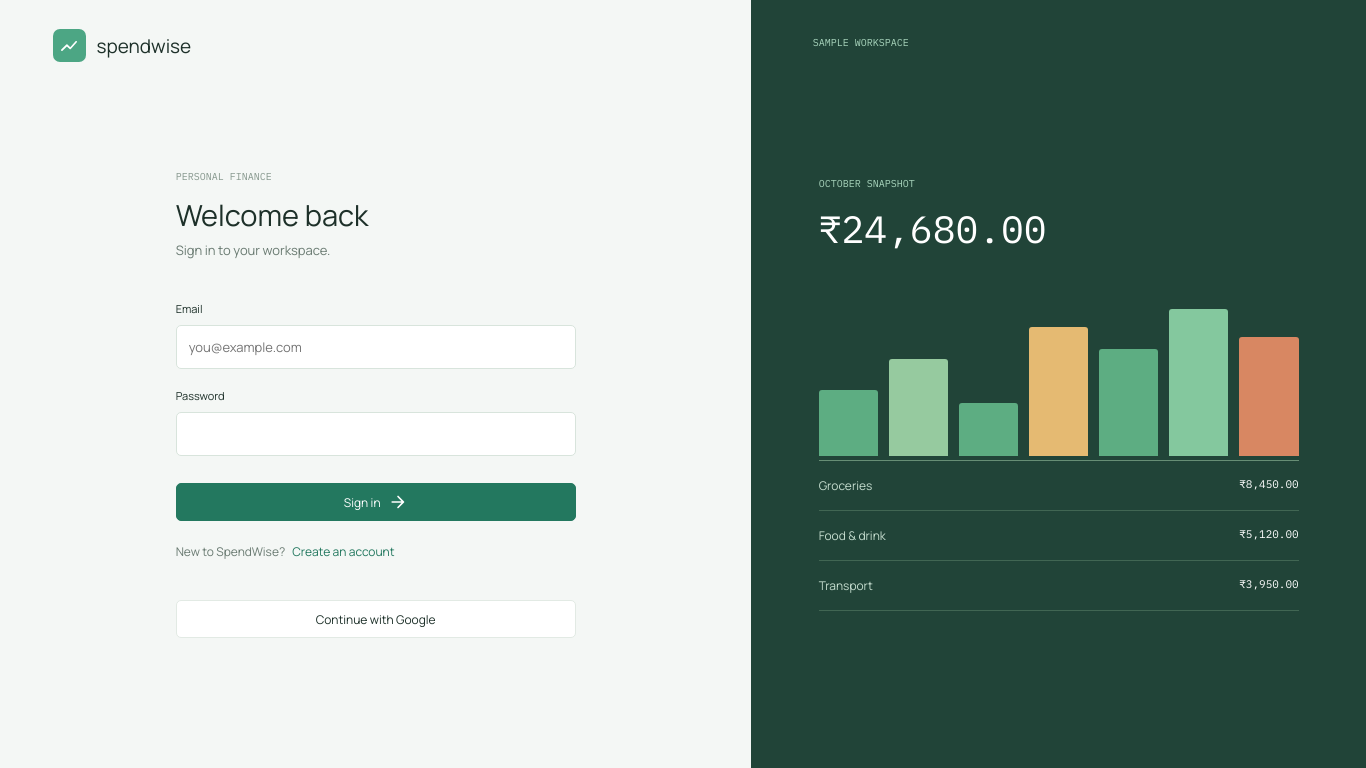
Test: authentication › explains when email verification will set the submitted password
Type "legacy@example.com" into the field labelled "Email".
click(376, 347); type("legacy@example.com")  # box [176, 325, 576, 369]
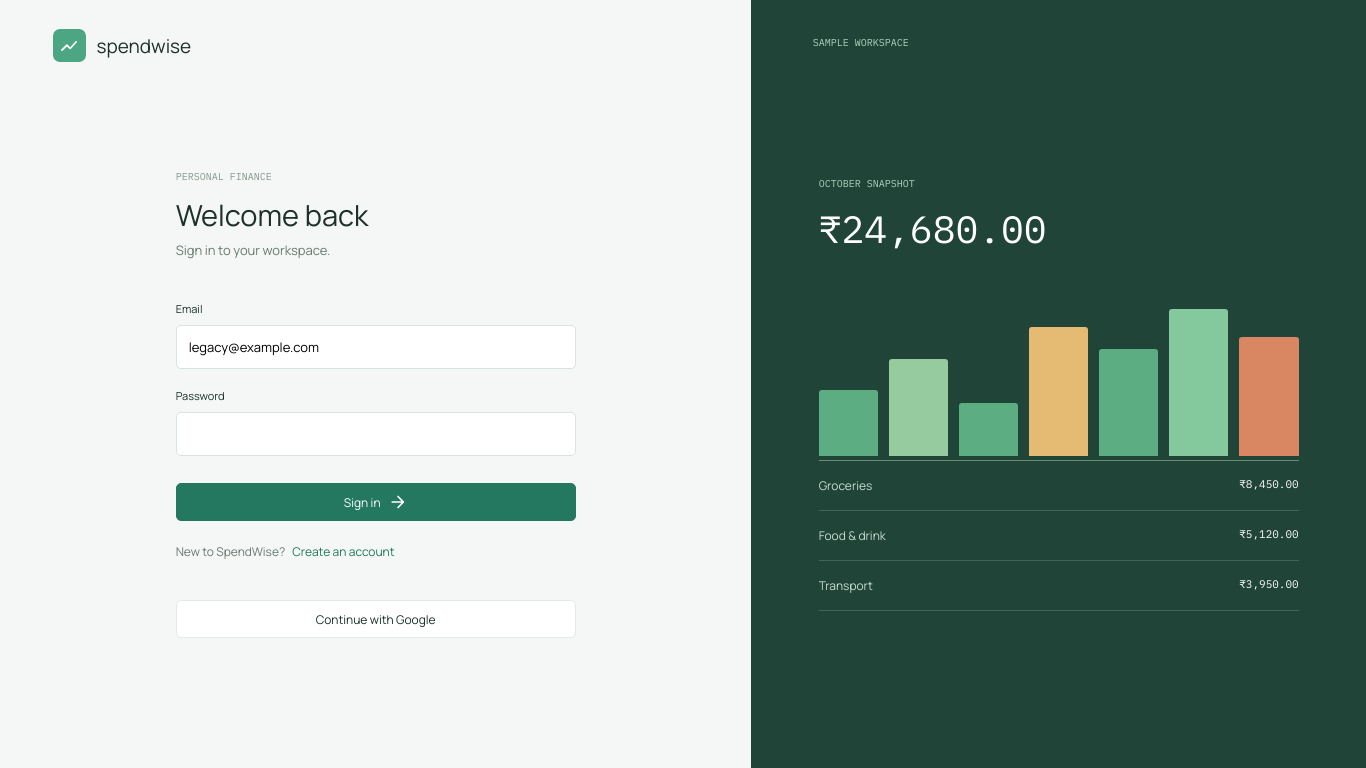
Type "new-long-password" into the password field labelled "Password".
click(376, 434); type("new-long-password")  # box [176, 412, 576, 456]
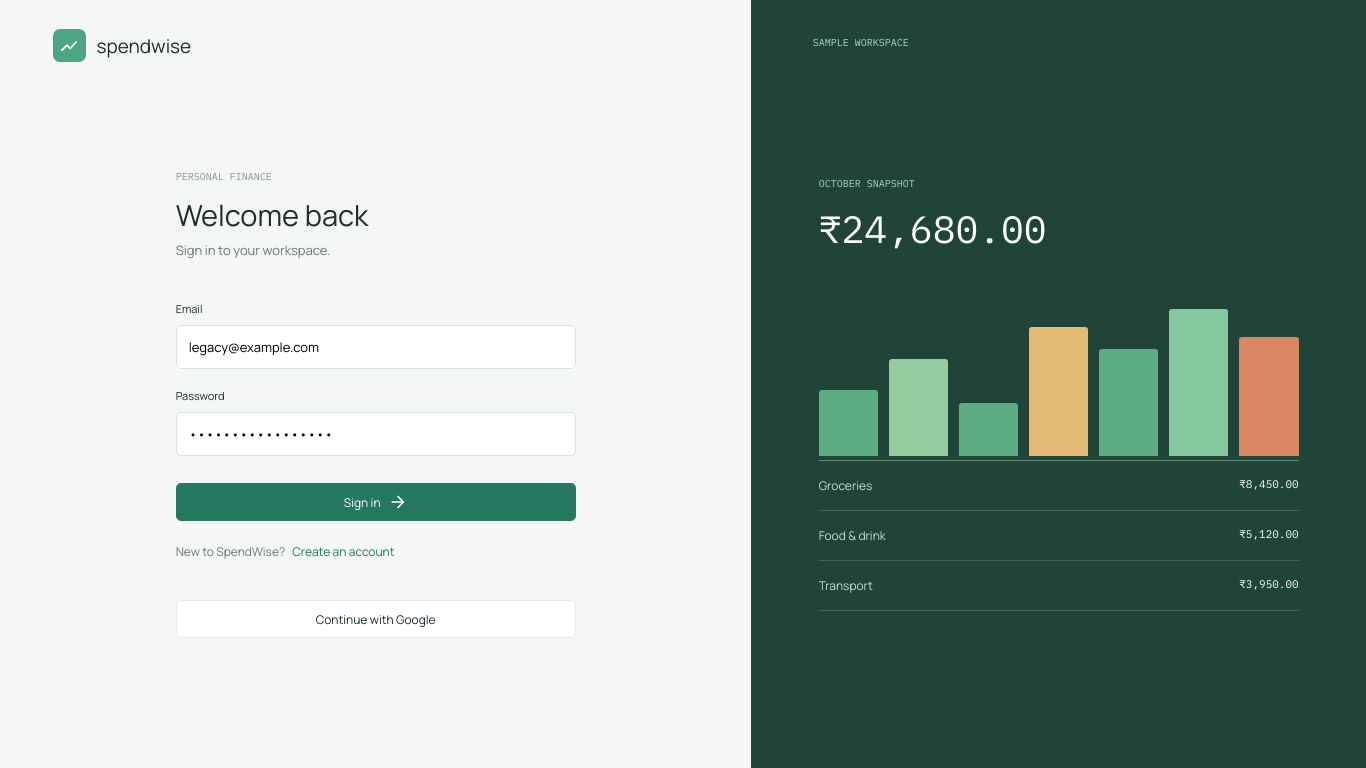
Click the button "Sign in".
click(376, 502)  # box [176, 483, 576, 521]
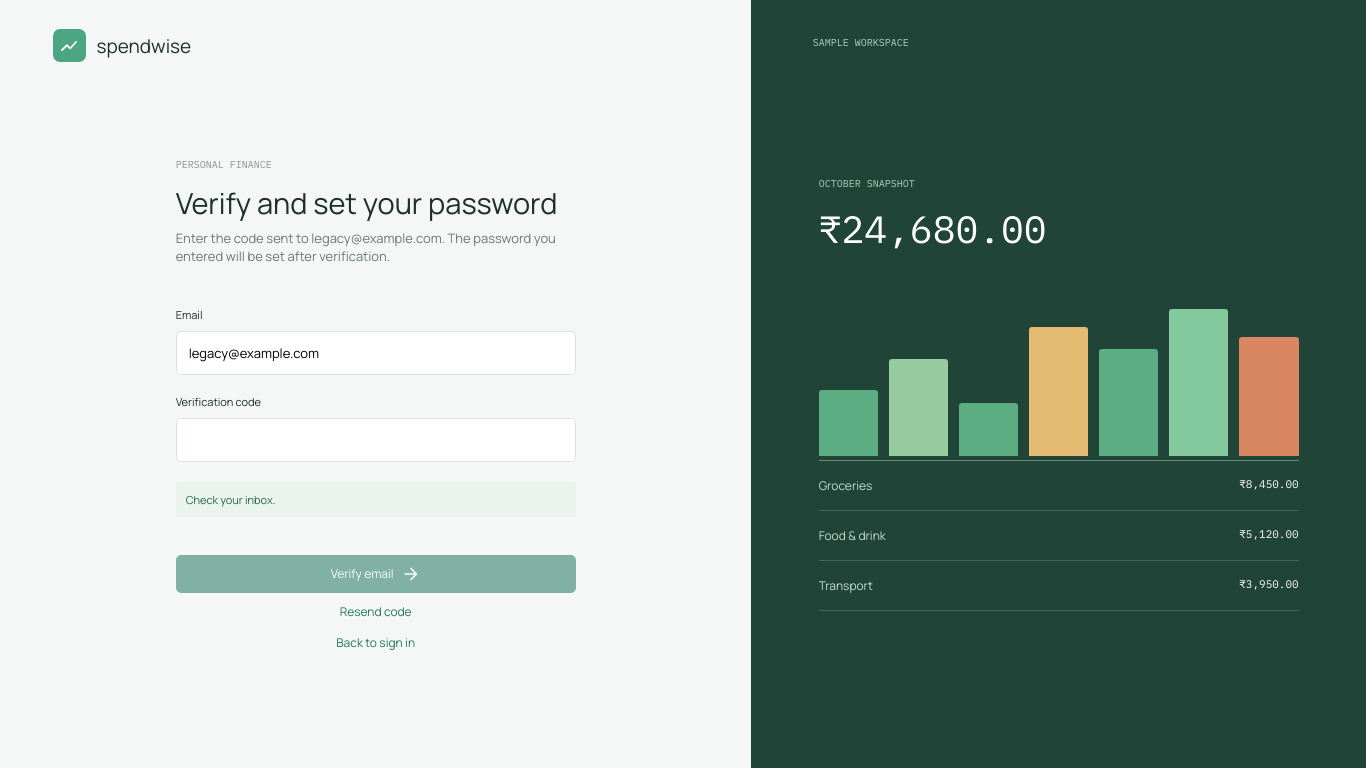
Now the heading "Verify and set your password" is shown, box [176, 182, 576, 222]
Now the text "The password you entered will be set after verification." is shown, box [176, 228, 556, 264]
